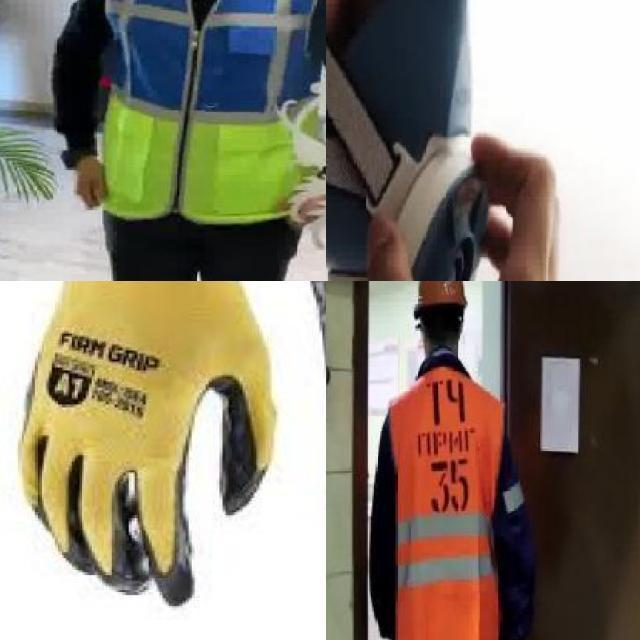apron: (9, 281, 283, 606)
